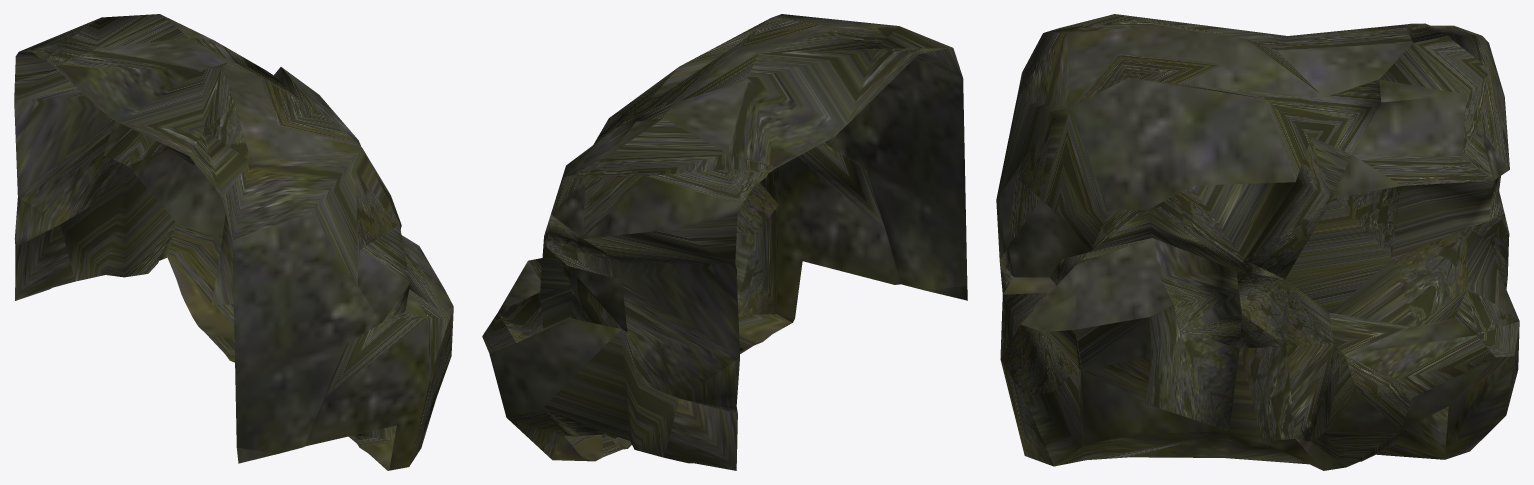
File: shore-cliff-a.lod1.glb
3 views of the same model, side by side, from view 1: azimuth 30°, elevation 25°; view 2: azimuth 150°, elevation 25°; view 3: azimuth 270°, elevation 25° (orthographic). The views are drawn at different scales.
Visible parts, largest first — view 1: cliff_02_lp_cliff02_0; view 2: cliff_02_lp_cliff02_0; view 3: cliff_02_lp_cliff02_0.
Part boxes in pixels (x1,y1,x2,y2): cliff_02_lp_cliff02_0: (14,14,453,470); cliff_02_lp_cliff02_0: (482,14,967,470); cliff_02_lp_cliff02_0: (996,14,1519,470).
Size of the model in its own units: 10.88 by 13.64 by 17.01.
1 material, 1 textured.
